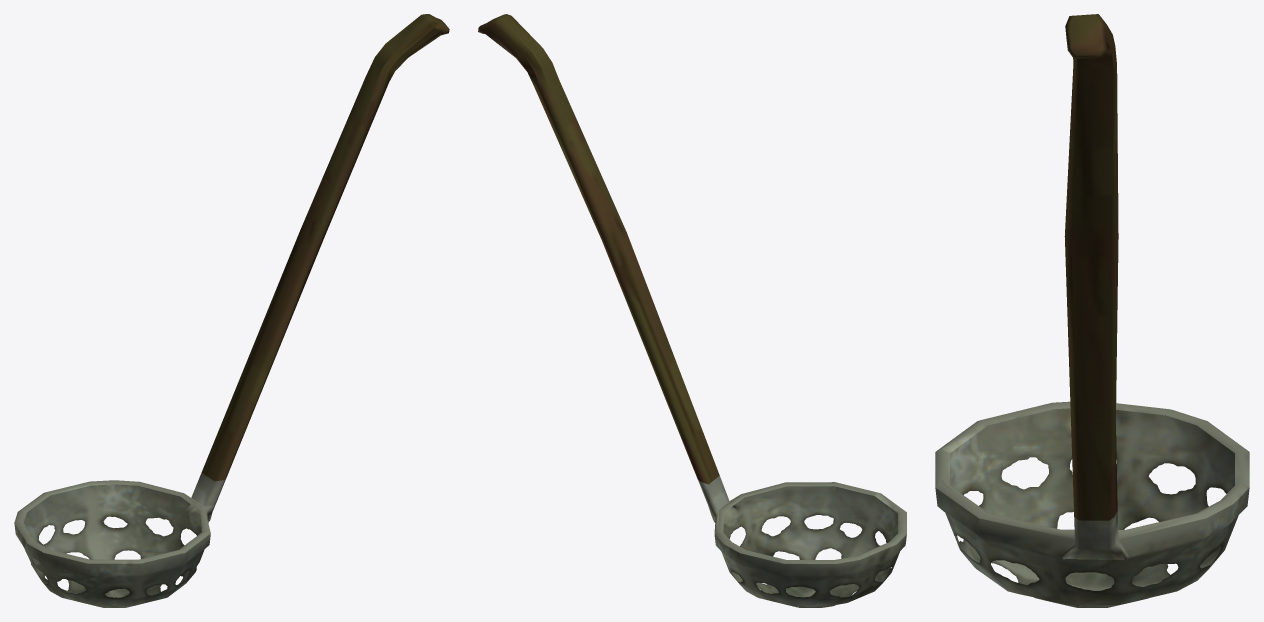
File: M_LouchePecheA.fbx
The picture shows the model from 3 angles, left to right: view 1: azimuth 30°, elevation 25°; view 2: azimuth 150°, elevation 25°; view 3: azimuth 270°, elevation 25°; orthographic projection. The views are drawn at different scales.
Visible parts, largest first — view 1: louche1; view 2: louche1; view 3: louche1.
Boxes of the visible parts, x1=… form: louche1: x1=14, y1=14, x2=449, y2=607; louche1: x1=478, y1=14, x2=906, y2=607; louche1: x1=935, y1=14, x2=1249, y2=607.
Bounding box in the file's own units: 49.67 × 57.43 × 19.91.
